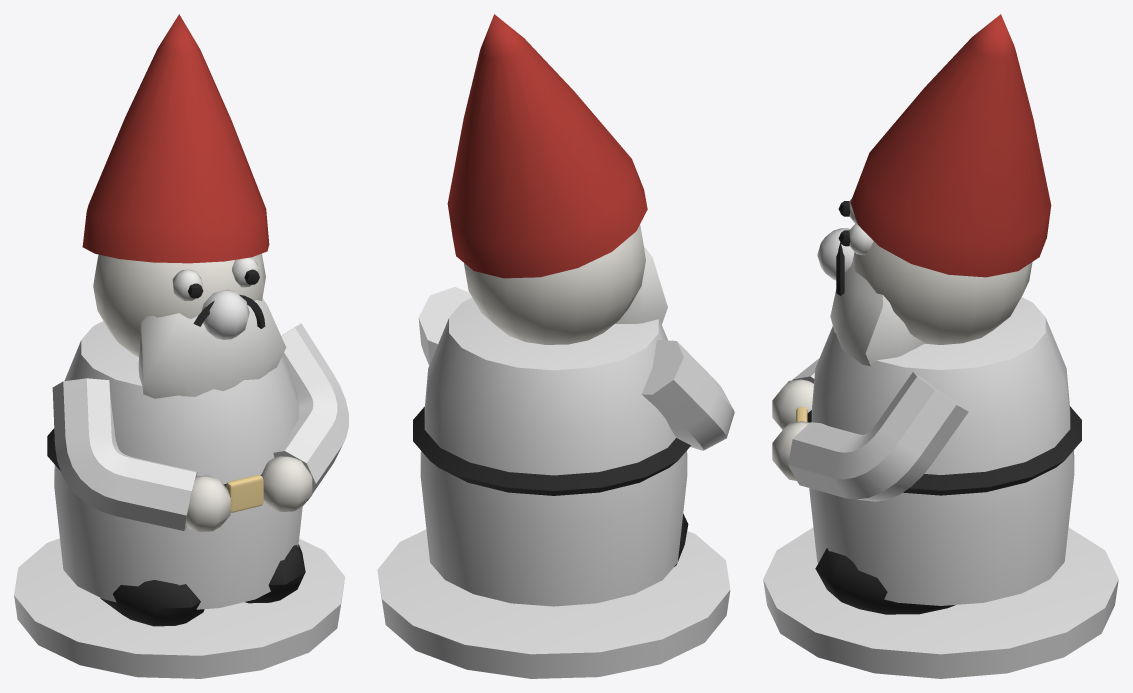
File: SM_Garden_Gnome.fbx
3 renders of one model, left to right at view 1: azimuth 30°, elevation 25°; view 2: azimuth 150°, elevation 25°; view 3: azimuth 270°, elevation 25°, orthographic. The views are drawn at different scales.
Visible parts, largest first — view 1: SM_Garden_Gnome; view 2: SM_Garden_Gnome; view 3: SM_Garden_Gnome.
Part boxes in pixels (box(x1,y1,x2,y2)): SM_Garden_Gnome: box(14, 14, 348, 678); SM_Garden_Gnome: box(377, 14, 734, 678); SM_Garden_Gnome: box(763, 14, 1118, 678).
Size of the model in its own units: 18.4 by 34.59 by 18.4.
